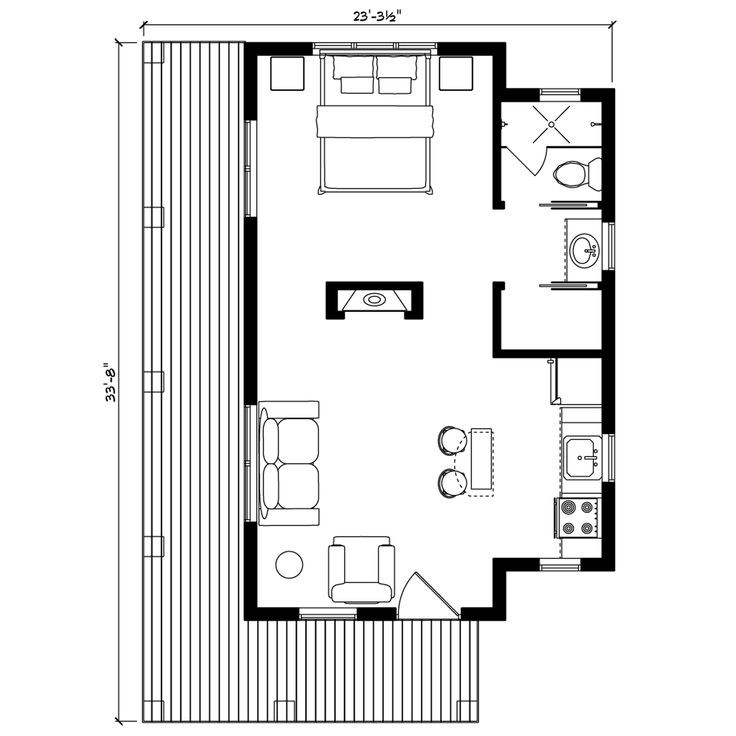door: (394, 561, 458, 617)
room: (231, 40, 509, 625), (494, 68, 632, 575)
wall: (237, 213, 258, 415), (590, 70, 619, 212), (596, 269, 620, 435), (485, 89, 514, 215), (482, 338, 601, 361), (237, 35, 266, 112), (595, 486, 621, 566), (246, 34, 312, 65), (483, 552, 506, 625), (241, 520, 258, 617), (428, 42, 512, 58), (259, 602, 305, 631), (490, 277, 504, 357), (495, 49, 512, 109), (360, 600, 401, 622), (496, 557, 538, 577)
window: (308, 27, 439, 67), (222, 116, 267, 217), (587, 214, 621, 266), (599, 431, 628, 488), (299, 603, 358, 626), (535, 83, 581, 107), (542, 556, 587, 578)
